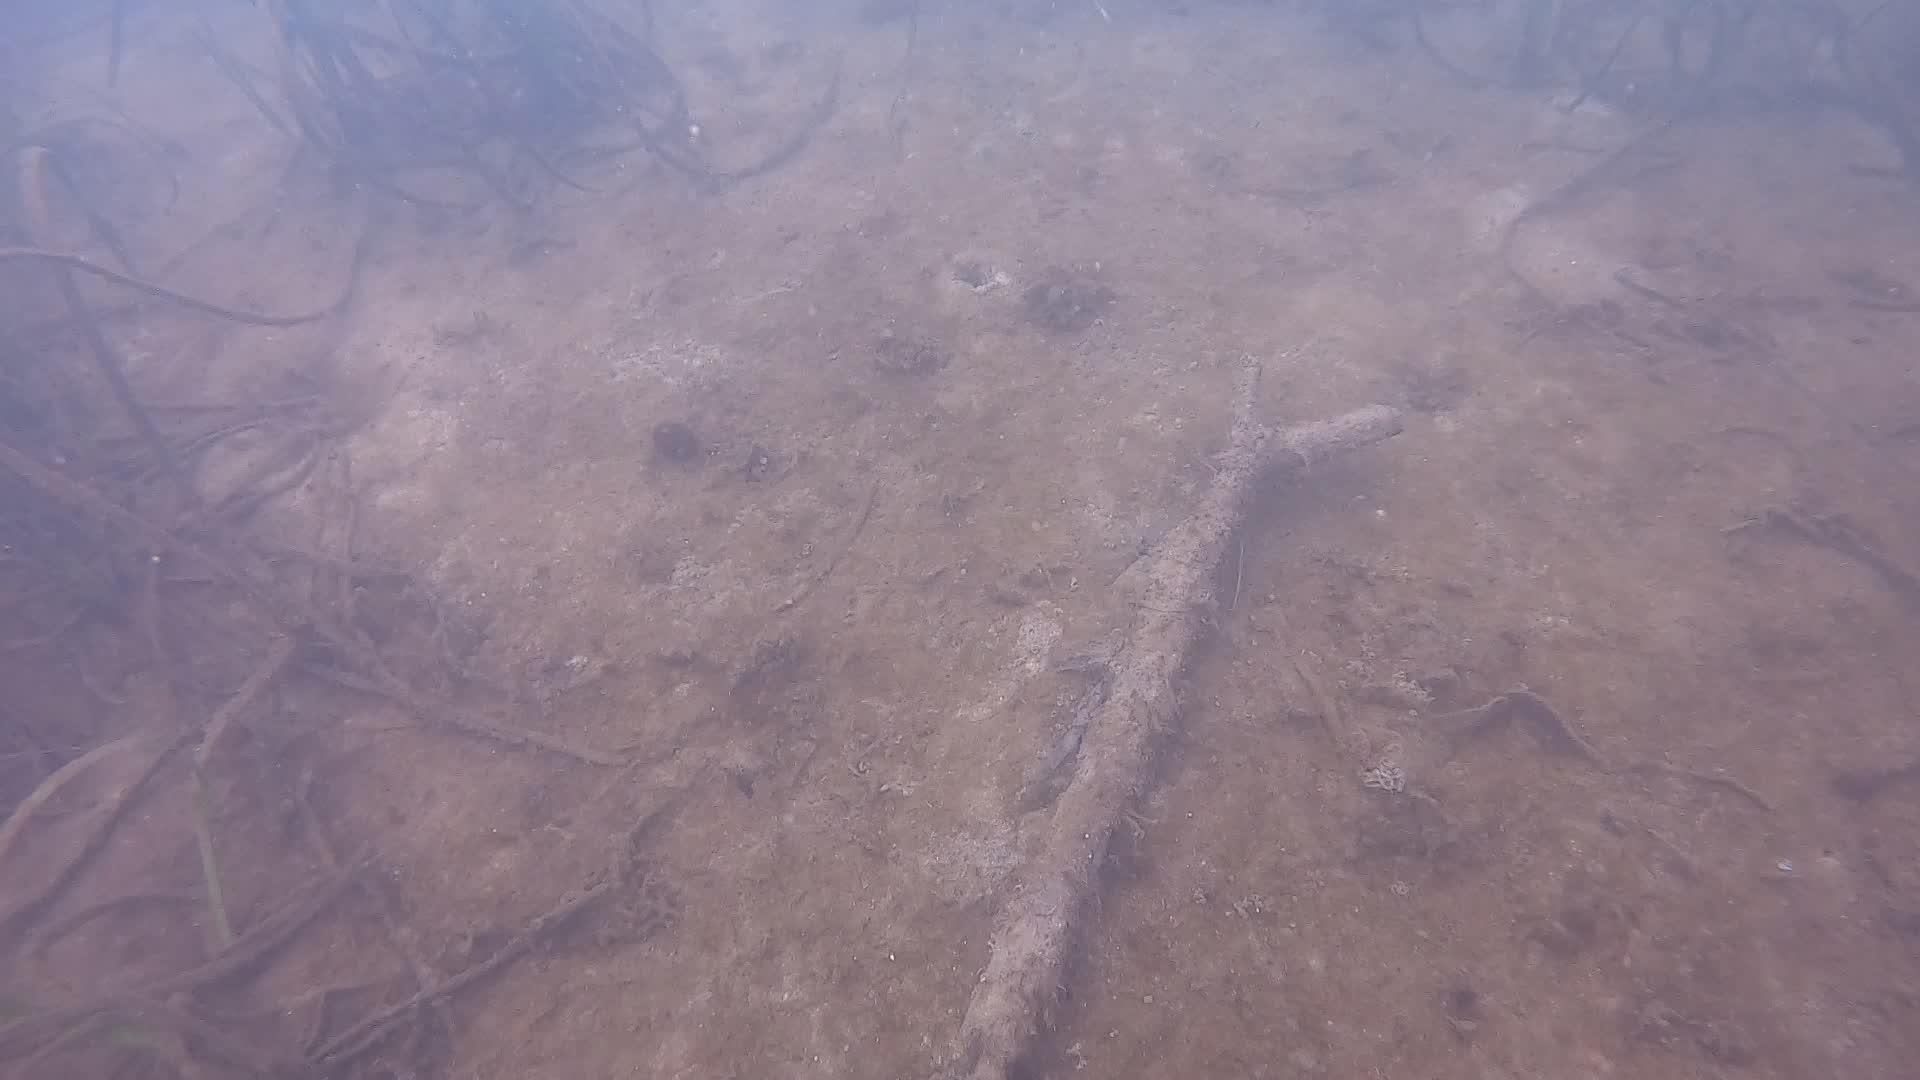wood: (934, 371, 1399, 1080)
